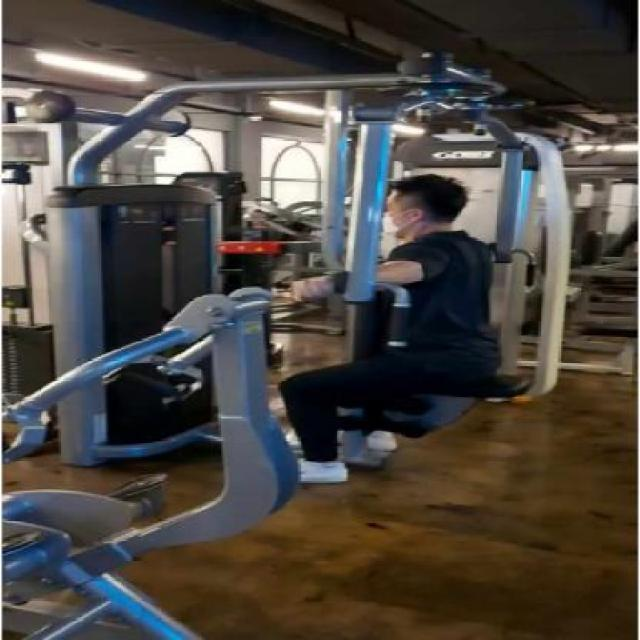chest fly machine: (0, 40, 640, 508)
